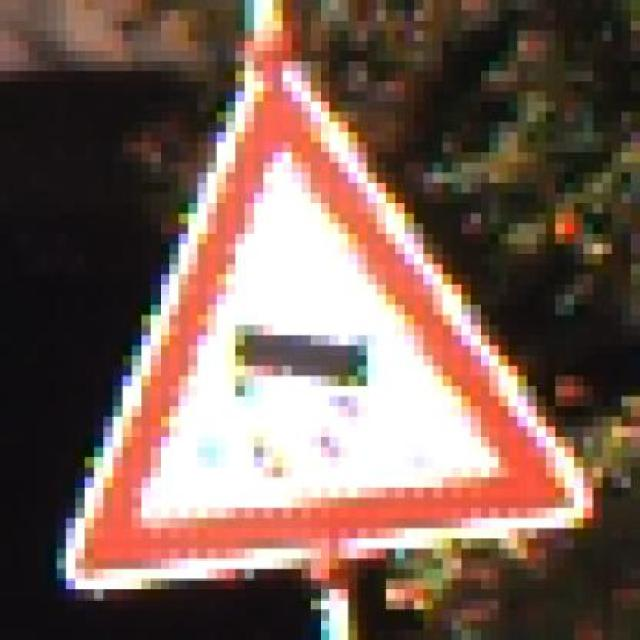Slippery Road Ahead: (47, 71, 593, 600)
